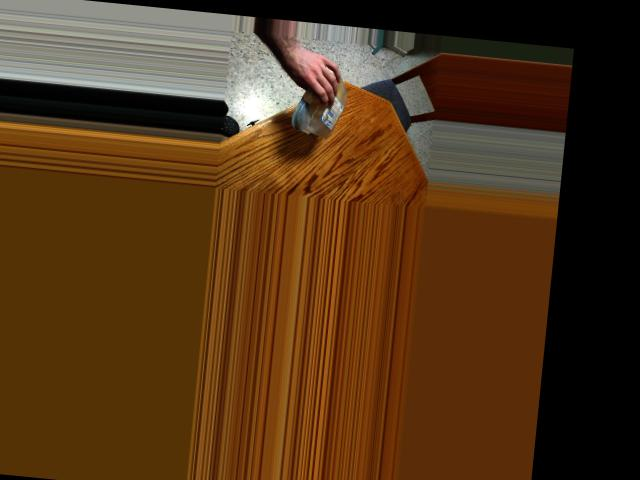cheese: (297, 76, 344, 132)
